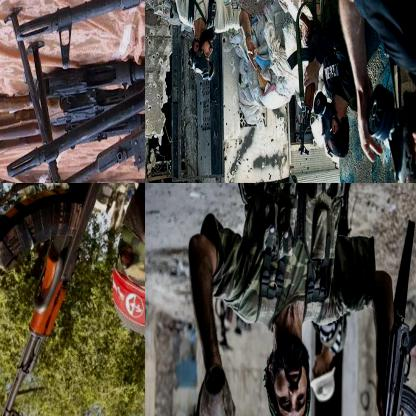rifle: (0, 183, 124, 415), (5, 13, 144, 182), (38, 65, 144, 182), (16, 0, 144, 73), (356, 310, 415, 415), (286, 0, 324, 160), (90, 79, 144, 182)
